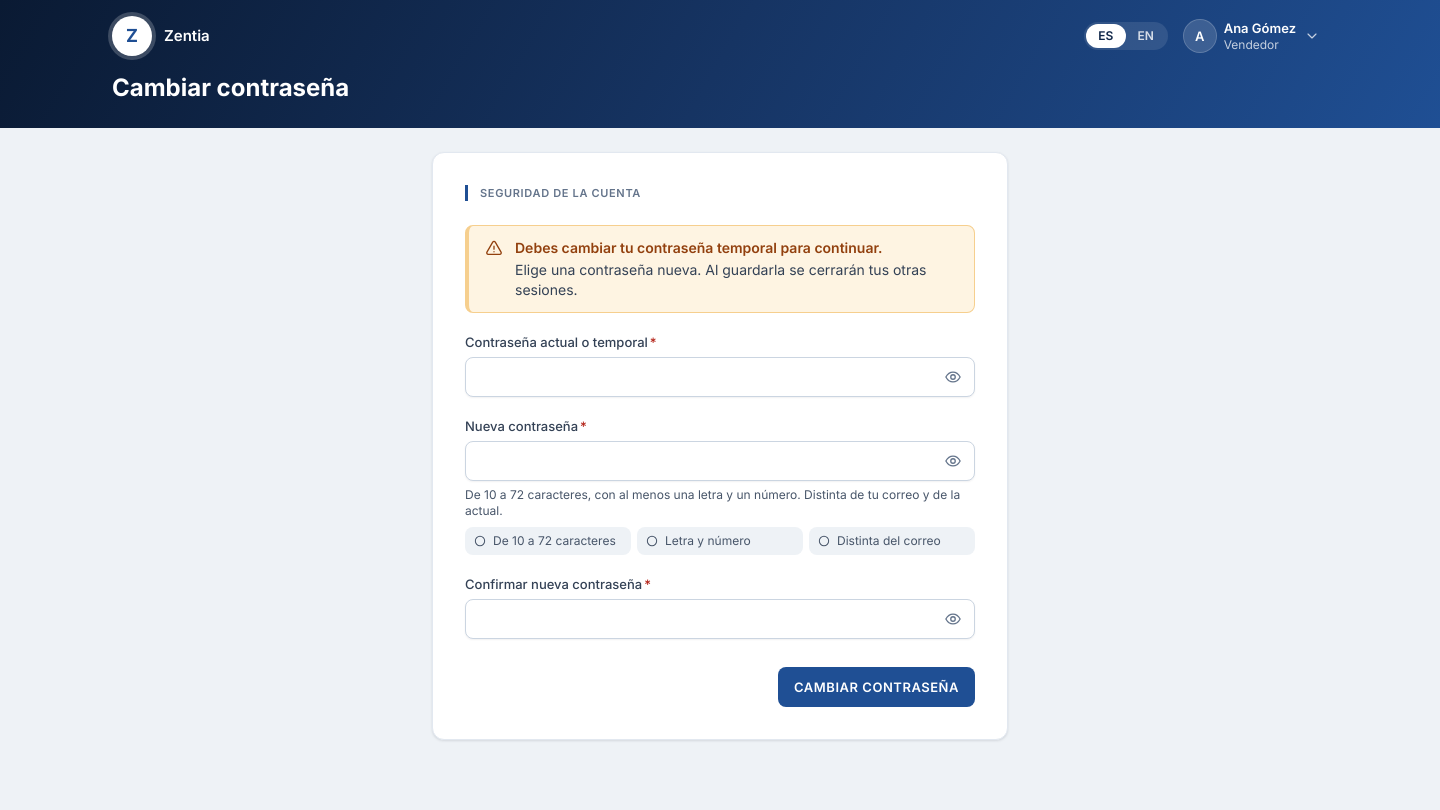
ChangePasswordPage › hides navigation and the voluntary actions while the change is mandatory
What coordinates should you click on to do the following:
click the button named "Menú de usuario"
I would click on:
 (1254, 36)
Its box is x1=1180 y1=15 x2=1328 y2=57.
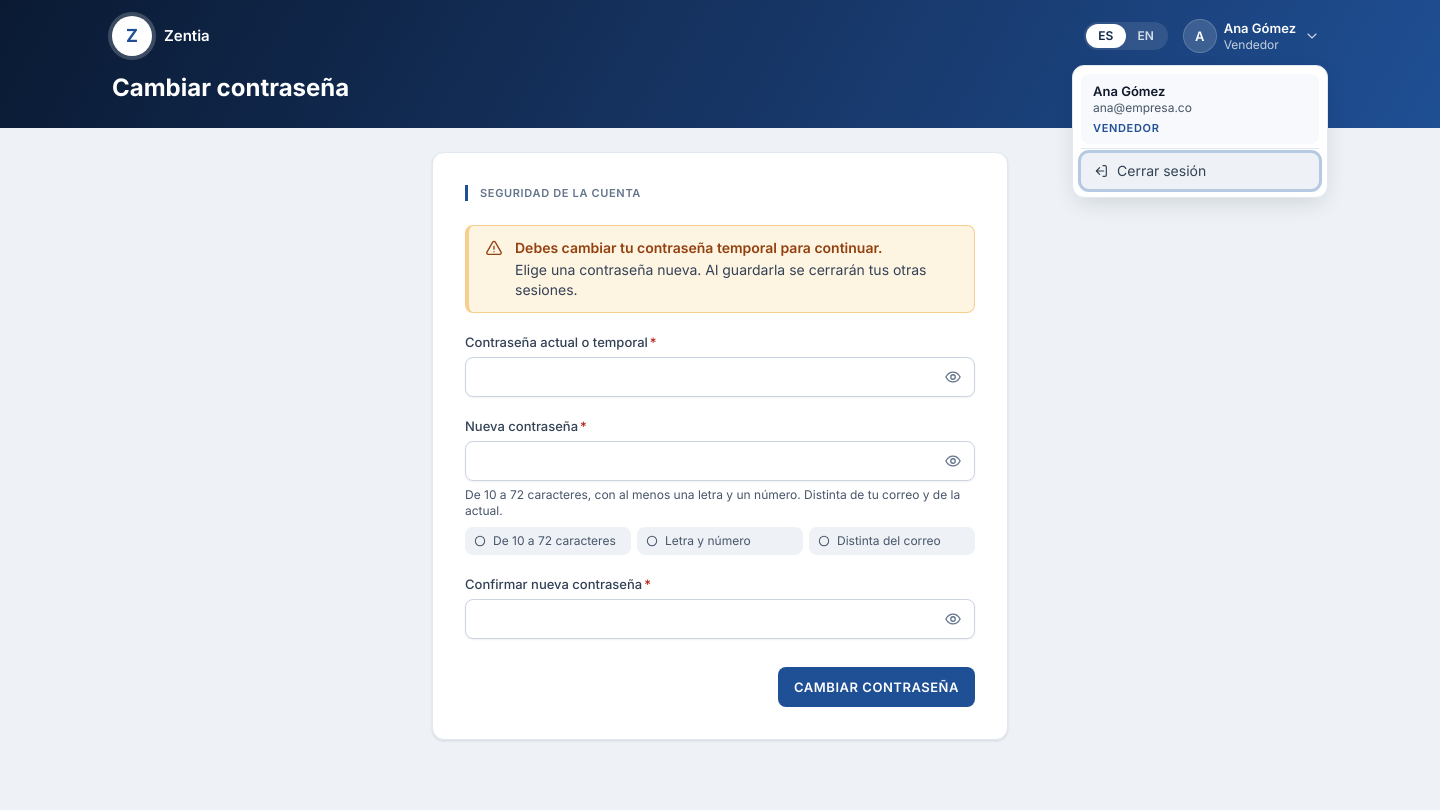
Expected: the menu item "Cerrar sesión" is shown, x1=1081 y1=153 x2=1319 y2=189
